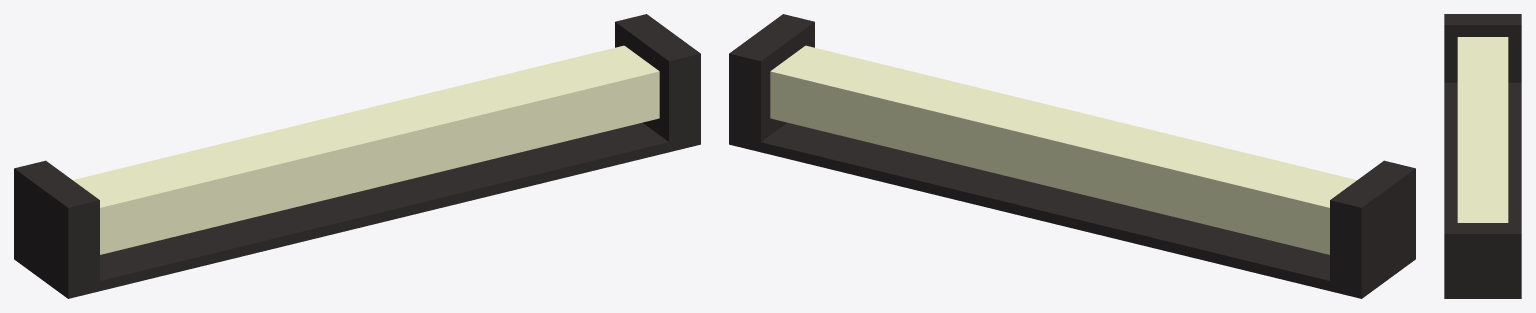
Rendered from light.obj.
The picture shows the model from 3 angles, left to right: view 1: azimuth 30°, elevation 25°; view 2: azimuth 150°, elevation 25°; view 3: azimuth 270°, elevation 25°; orthographic projection. The views are drawn at different scales.
Visible parts, largest first — view 1: Cylinder; view 2: Cylinder; view 3: Cylinder.
Boxes of the visible parts, x1,y1,x2,y2 form: Cylinder: [14, 14, 700, 298]; Cylinder: [729, 14, 1415, 298]; Cylinder: [1444, 14, 1521, 298].
Size of the model in its own units: 0.7799 by 0.1073 by 0.1154.
